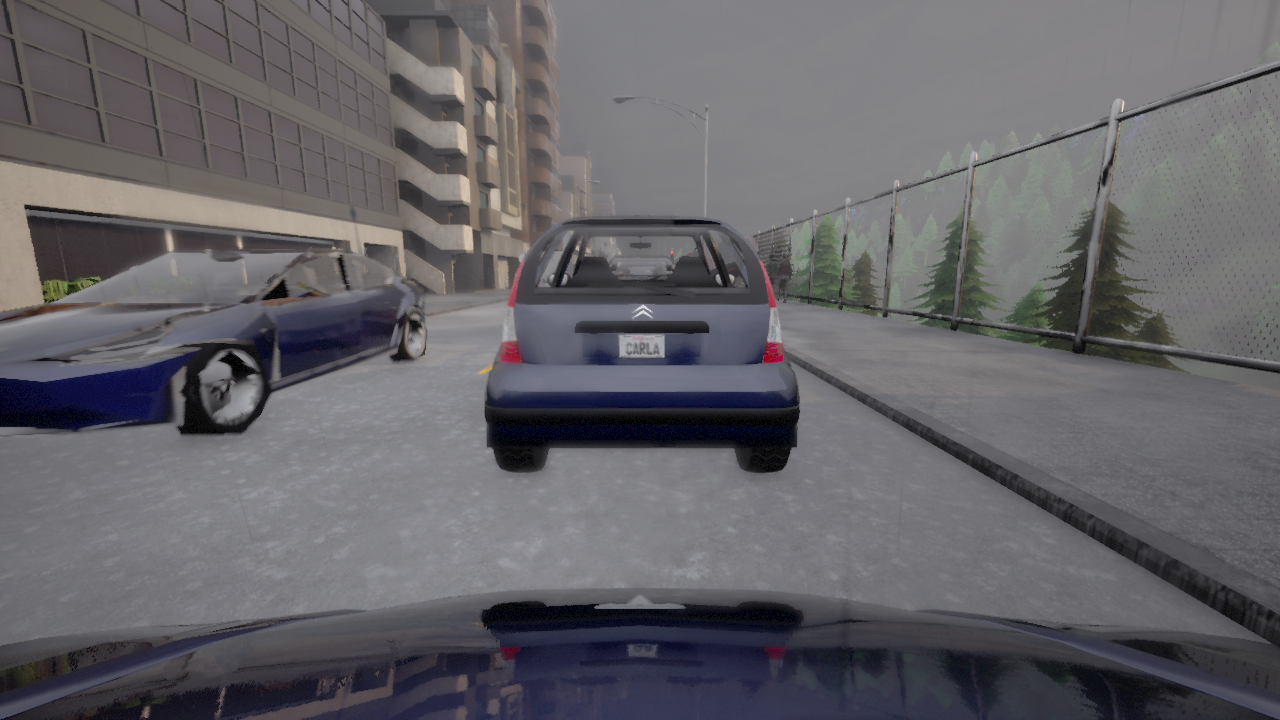cyclist: (0, 588, 1279, 719), (0, 248, 427, 437), (484, 216, 799, 472), (743, 234, 761, 260)
pedestrian: (775, 254, 790, 303), (765, 255, 777, 291)
